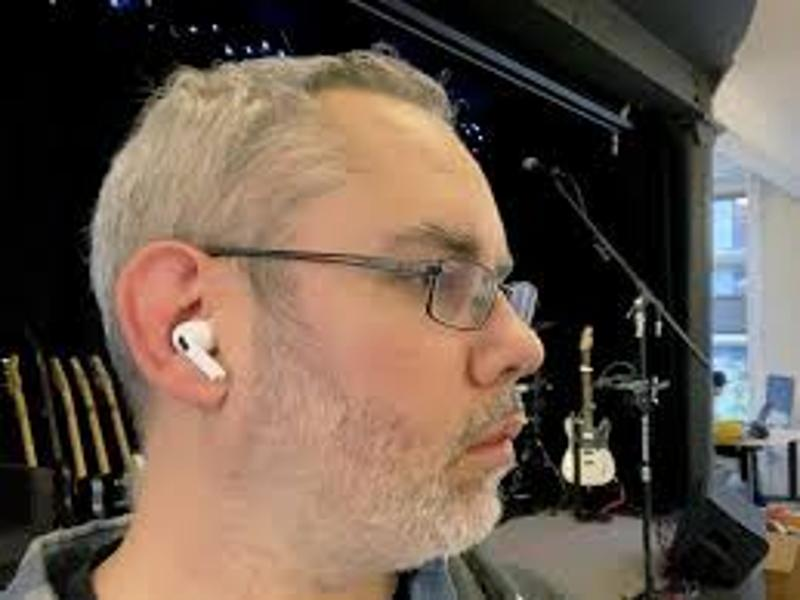headphone: (170, 315, 228, 384)
